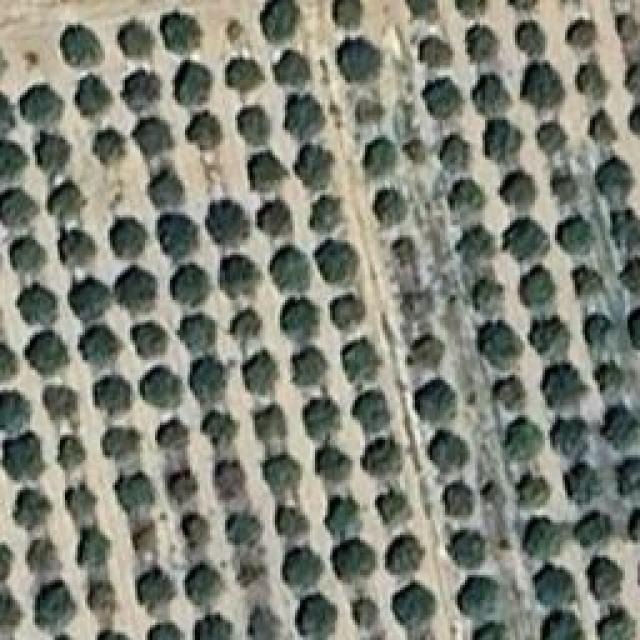Tree: (153, 207, 205, 261), (335, 35, 387, 84), (520, 60, 569, 110), (215, 255, 266, 303), (537, 360, 584, 412), (135, 568, 184, 617), (478, 322, 529, 369), (112, 263, 156, 317), (205, 193, 255, 240), (453, 575, 503, 622), (0, 437, 52, 482), (315, 443, 363, 490), (77, 325, 123, 373), (297, 395, 343, 442), (547, 415, 594, 460), (503, 218, 551, 262), (157, 10, 202, 56), (341, 333, 384, 381), (142, 368, 188, 412), (23, 80, 67, 126), (500, 418, 546, 462), (105, 217, 148, 264), (416, 375, 458, 423), (67, 280, 114, 322), (240, 350, 287, 392), (288, 95, 330, 142), (10, 488, 51, 536), (33, 578, 74, 626), (170, 262, 213, 307), (0, 182, 43, 227), (120, 65, 165, 108), (33, 132, 75, 178), (190, 357, 231, 404), (273, 50, 320, 91), (568, 460, 609, 507), (333, 540, 376, 584), (100, 423, 145, 465), (273, 248, 313, 295), (588, 555, 628, 602), (260, 451, 303, 494), (172, 64, 217, 105), (518, 472, 559, 517), (360, 438, 407, 477), (185, 108, 228, 150), (30, 328, 71, 372), (442, 530, 487, 570), (117, 473, 163, 512), (470, 67, 509, 113), (533, 565, 575, 607), (75, 75, 115, 119), (278, 297, 317, 342), (497, 173, 542, 212), (64, 28, 106, 69), (293, 145, 335, 186), (210, 455, 253, 495), (233, 100, 272, 144), (93, 375, 134, 416), (15, 285, 56, 326), (8, 235, 48, 277), (305, 193, 347, 233), (260, 0, 300, 42), (130, 113, 173, 152), (285, 543, 324, 586), (393, 580, 431, 624), (518, 265, 558, 306), (533, 313, 573, 354), (130, 320, 169, 362), (553, 215, 595, 254), (176, 318, 220, 355), (318, 243, 358, 283), (290, 345, 330, 385), (58, 228, 98, 268), (295, 595, 335, 635), (600, 153, 640, 193), (600, 400, 640, 440), (353, 388, 391, 430), (118, 23, 160, 61), (225, 58, 263, 100), (430, 428, 468, 470), (573, 513, 617, 549), (485, 125, 525, 164), (383, 535, 421, 576), (535, 120, 573, 161), (423, 80, 466, 116), (463, 23, 499, 66), (455, 228, 494, 267), (253, 403, 290, 444), (223, 508, 264, 545), (490, 375, 529, 413), (408, 333, 449, 369), (185, 565, 220, 607), (523, 518, 558, 560), (48, 183, 85, 222), (200, 405, 239, 442), (245, 150, 283, 187), (43, 385, 79, 424), (3, 390, 34, 435), (418, 35, 459, 69), (610, 202, 640, 248), (153, 415, 190, 452), (365, 185, 402, 222), (63, 480, 99, 518), (228, 310, 267, 345), (473, 275, 507, 315), (442, 480, 476, 520), (80, 580, 120, 614), (540, 610, 585, 640), (0, 140, 32, 182), (592, 612, 640, 640), (573, 60, 610, 96), (248, 602, 284, 639), (385, 233, 422, 269), (362, 140, 396, 179), (435, 135, 468, 175), (195, 610, 240, 639), (348, 595, 383, 632), (258, 202, 296, 236), (330, 290, 363, 329), (25, 542, 64, 575), (148, 170, 185, 204), (165, 465, 199, 501), (448, 175, 482, 209), (178, 512, 212, 546), (92, 127, 125, 161), (515, 23, 548, 57), (473, 612, 513, 640), (78, 530, 109, 566), (400, 135, 431, 171), (55, 435, 87, 469), (568, 260, 603, 291), (577, 312, 609, 345), (0, 588, 27, 627), (333, 498, 363, 533), (377, 495, 411, 525), (355, 95, 387, 125), (585, 110, 616, 140), (332, 0, 364, 29), (617, 454, 639, 496), (612, 10, 640, 43), (235, 560, 266, 589), (145, 617, 183, 640), (485, 476, 512, 508), (547, 173, 579, 199), (617, 258, 640, 294), (0, 342, 20, 382), (568, 17, 593, 49), (453, 0, 495, 18), (598, 364, 622, 394), (0, 542, 15, 587), (625, 58, 640, 98), (408, 0, 438, 19), (622, 100, 640, 128), (628, 308, 640, 346), (510, 0, 543, 13)
